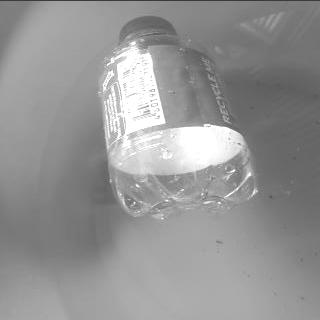bottle: (96, 16, 258, 220)
